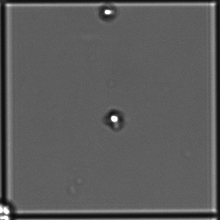Living Cell: (102, 106, 129, 129), (95, 3, 121, 26)
